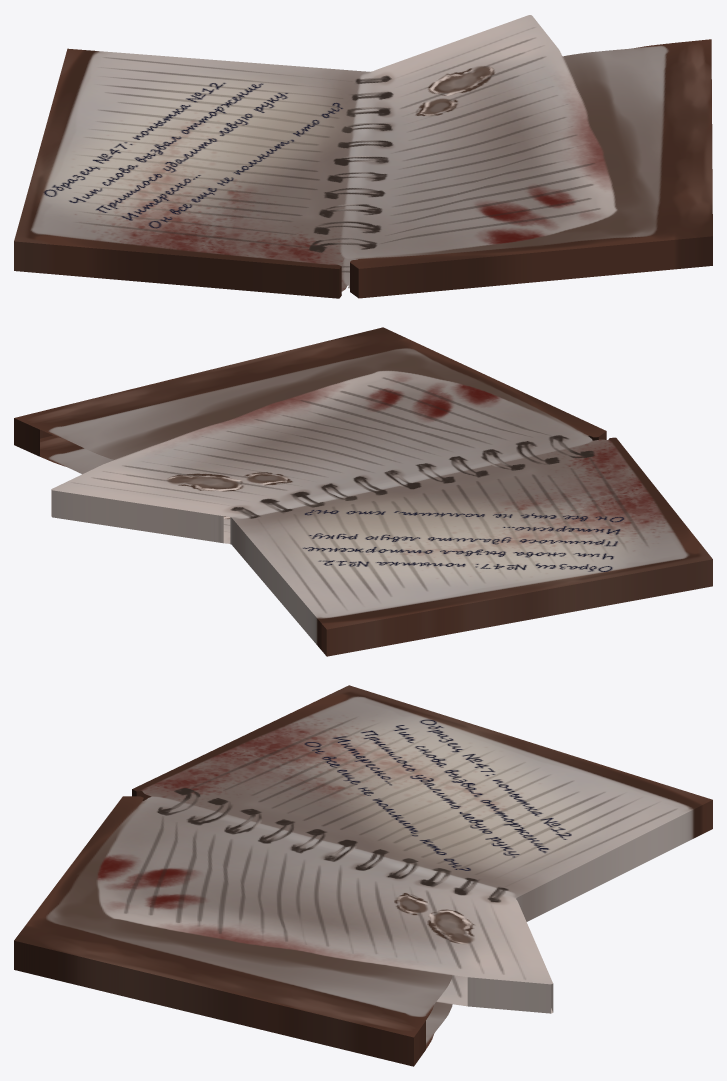
The model's file is The_notebook_is_on_the_second_level.fbx.
3 views of the same model, one above another, from view 1: azimuth 30°, elevation 25°; view 2: azimuth 150°, elevation 25°; view 3: azimuth 270°, elevation 25° (orthographic). The views are drawn at different scales.
Parts seen in each view (by area): view 1: The_notebook_is_on_the_second_level; view 2: The_notebook_is_on_the_second_level; view 3: The_notebook_is_on_the_second_level.
Part boxes in pixels (left/top/right/bottom): The_notebook_is_on_the_second_level: left=14, top=15, right=712, bottom=298; The_notebook_is_on_the_second_level: left=14, top=327, right=712, bottom=656; The_notebook_is_on_the_second_level: left=14, top=685, right=712, bottom=1066.
Bounding box in the file's own units: 50.74 × 1.96 × 42.55.
